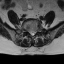CCS_normal: (31, 29, 33, 37)
LFS_normal: (35, 28, 38, 34)
LLS_normal: (33, 29, 35, 36)
RFS_severe_stenosis: (27, 28, 29, 34)
RLS_normal: (29, 30, 31, 36)
